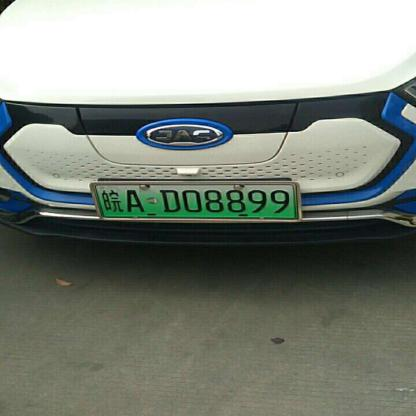lp: (96, 184, 297, 218)
